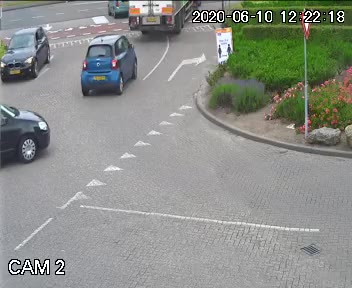car: (71, 33, 139, 99), (0, 100, 60, 167), (135, 0, 201, 47), (6, 23, 54, 84), (102, 0, 131, 17)
